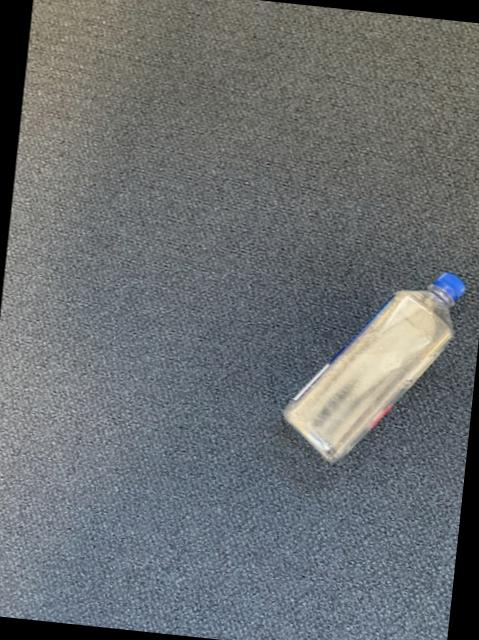plastic: (282, 274, 462, 463)
